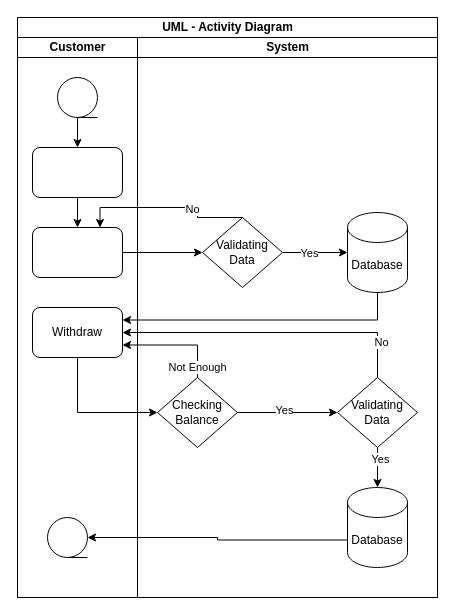
Some shapes in this 455 by 615 pixel diagram are drawn without their labels. Here are the shapes that lost their labels. From the top down, the centre of each, then its label:
point (77, 97): Start
point (77, 172): Make Account
point (77, 252): Deposit
point (67, 537): End
